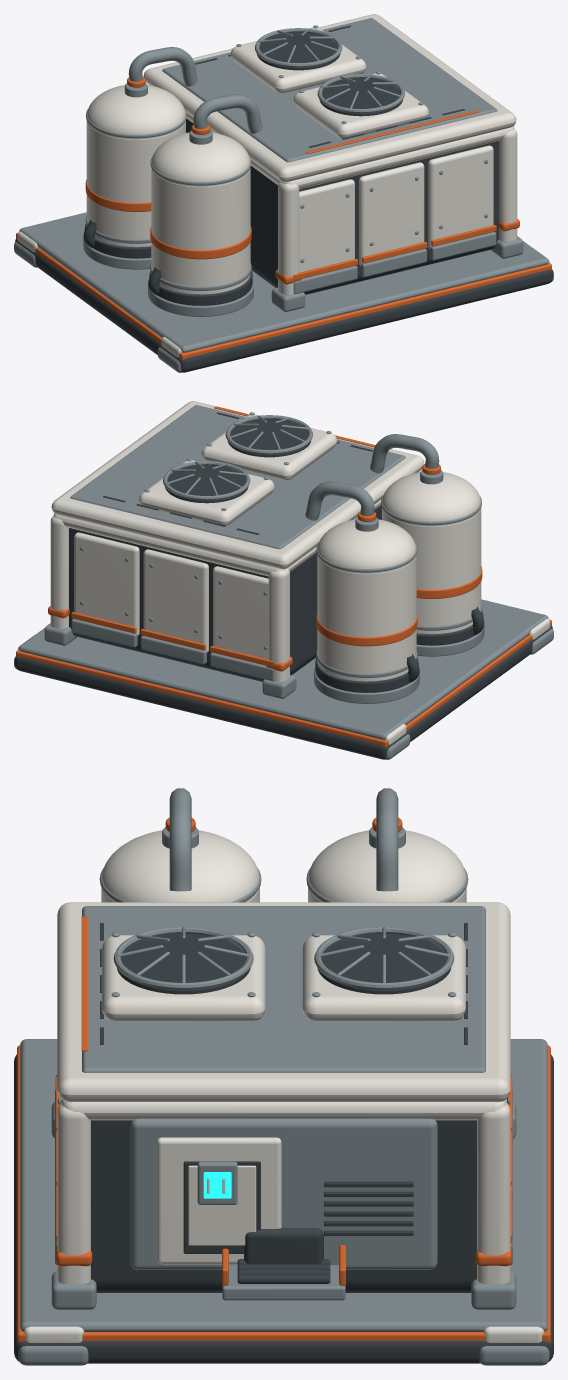
The model's file is SM_PolymerPlant.fbx.
3 renders of one model, top to bottom at view 1: azimuth 30°, elevation 25°; view 2: azimuth 150°, elevation 25°; view 3: azimuth 270°, elevation 25°, orthographic. The views are drawn at different scales.
Visible parts, largest first — view 1: SM_PolymerPlant.001; view 2: SM_PolymerPlant.001; view 3: SM_PolymerPlant.001.
Boxes of the visible parts, <box> form: SM_PolymerPlant.001: <box>14,14,553,372</box>; SM_PolymerPlant.001: <box>14,401,553,759</box>; SM_PolymerPlant.001: <box>14,788,553,1365</box>.
Size of the model in its own units: 464 by 350 by 250.
